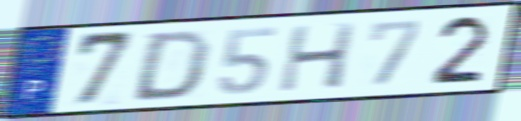2: (429, 14, 491, 87)
5: (214, 25, 280, 97)
7: (73, 30, 135, 110), (367, 17, 425, 89)
D: (127, 28, 214, 103)
H: (276, 21, 360, 95)
